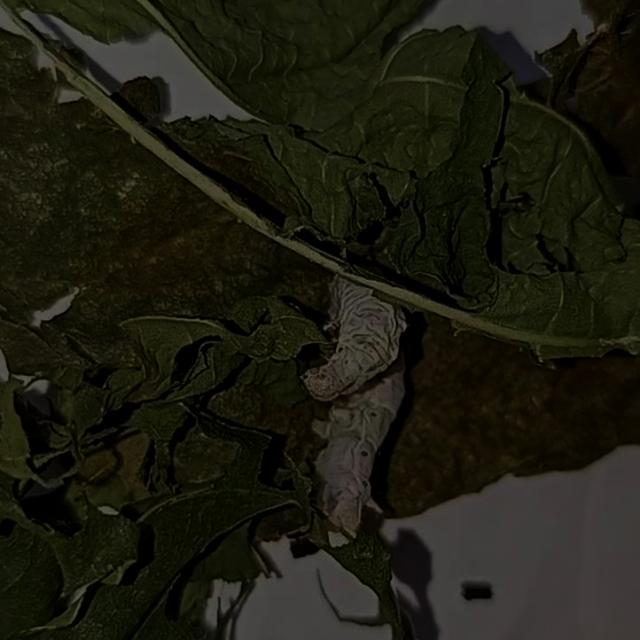Healthy: (253, 194, 474, 558)
